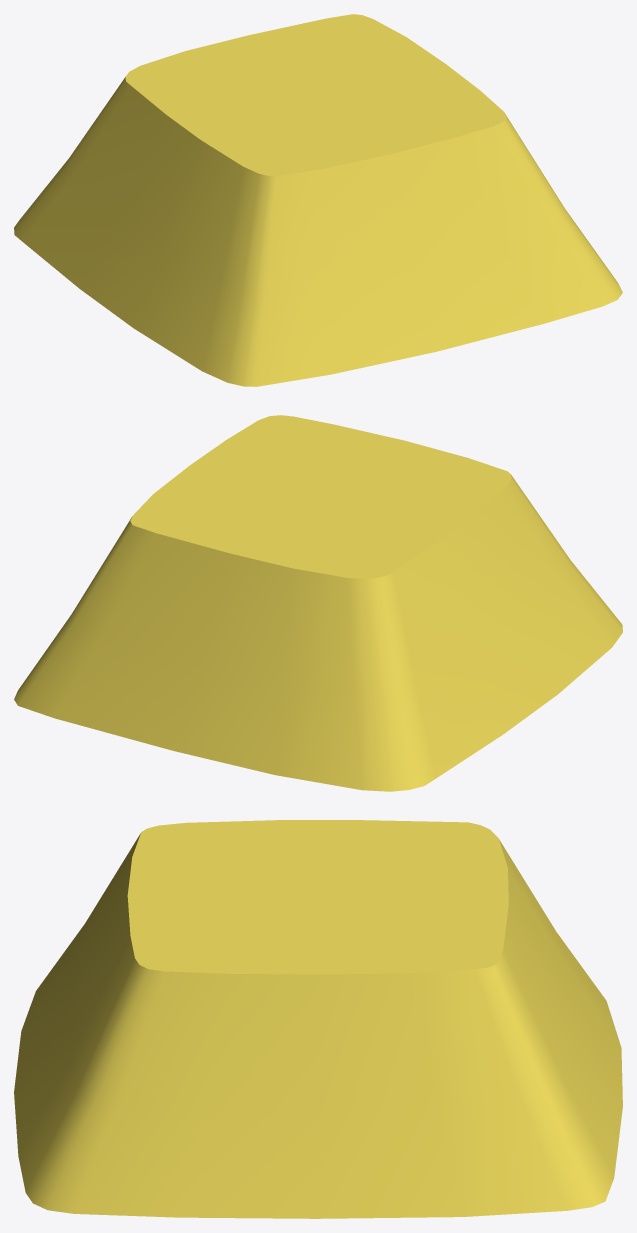
Rendered from Islands_12.FBX.
3 views of the same model, one above another, from view 1: azimuth 30°, elevation 25°; view 2: azimuth 150°, elevation 25°; view 3: azimuth 270°, elevation 25° (orthographic). The views are drawn at different scales.
Parts seen in each view (by area): view 1: Islands_12; view 2: Islands_12; view 3: Islands_12.
Boxes of the visible parts, <box> form: Islands_12: <box>14,14,622,386</box>; Islands_12: <box>14,415,622,791</box>; Islands_12: <box>14,820,622,1218</box>.
Bounding box in the file's own units: 6772 × 2521 × 7060.
